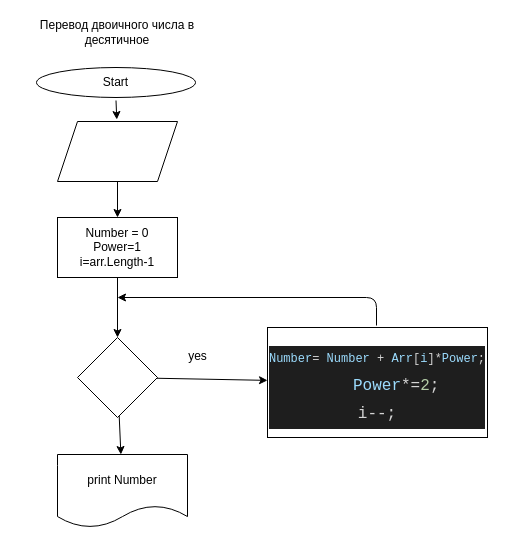
This 505x545 diagram has some shape labels left out. The centre of each missing label's shape, as x and y in pixels:
"i>=0" goes at (x=117, y=377).
"Ввести массив чисел arr" goes at (x=117, y=151).
